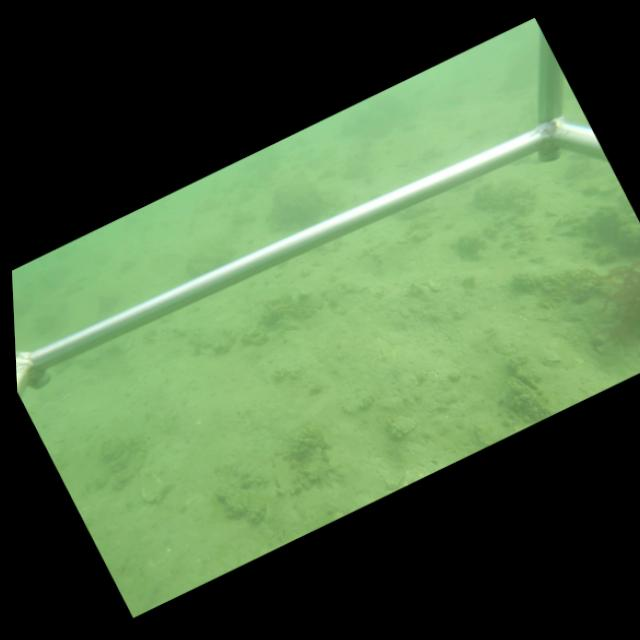Oyster-Closed: (508, 376, 556, 420)
